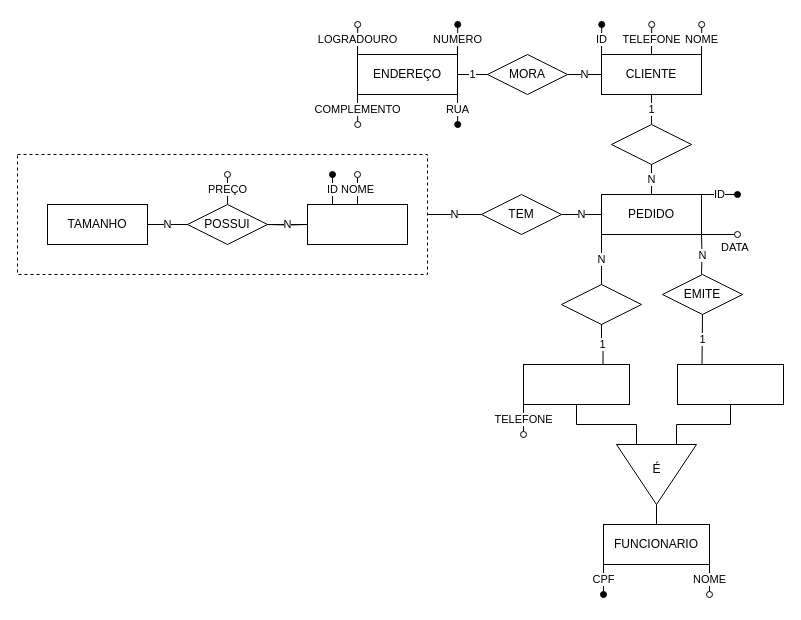
Image size: 801x620. Some labels were removed from this diagram. The shapes that lost their labels are listed below. From the top down, each one's centre as x and y in pixels, then its label:
pixel 651 144: FAZ
pixel 357 224: PIZZA
pixel 601 304: ENTREGA
pixel 576 384: ENTRGADOR
pixel 730 384: ATENDENTE
